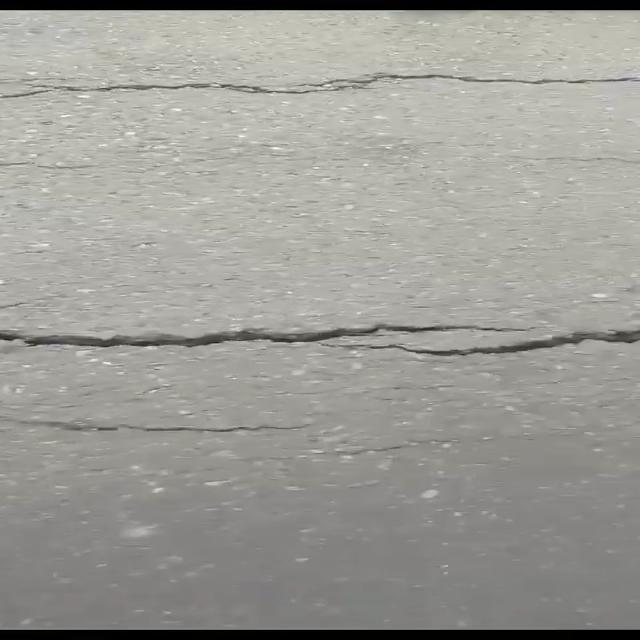Melintang: (0, 57, 640, 117), (0, 310, 640, 368)
